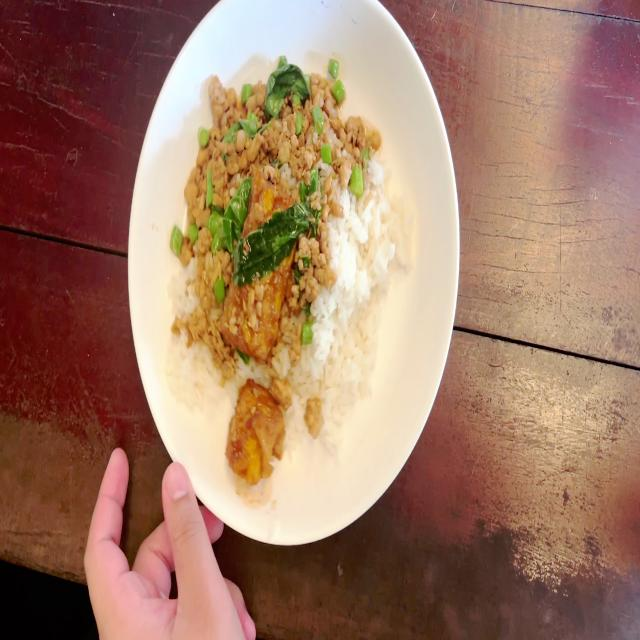fried_tofo: (226, 173, 288, 352), (226, 378, 286, 478)
minced_pork: (226, 60, 382, 166), (180, 69, 232, 362), (282, 146, 330, 322), (306, 403, 320, 430)
rice: (327, 182, 404, 430), (279, 320, 326, 399)
stir_fried_basil: (175, 60, 411, 490)
